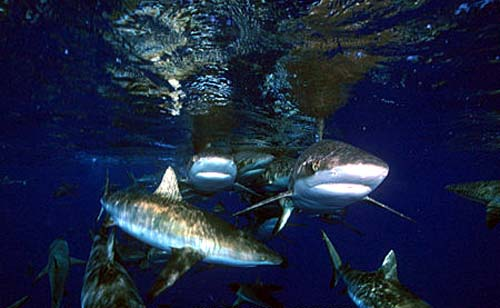Carcharhinus_amblyrhynchos: (95, 171, 288, 274), (280, 133, 417, 225), (182, 144, 240, 197)
